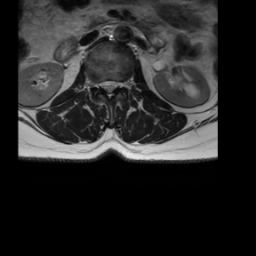CCS_normal: (105, 75, 112, 102)
LFS_stenosis: (119, 76, 125, 94)
LLS_stenosis: (112, 75, 119, 94)
RFS_stenosis: (91, 76, 98, 93)
RLS_stenosis: (98, 76, 105, 94)
